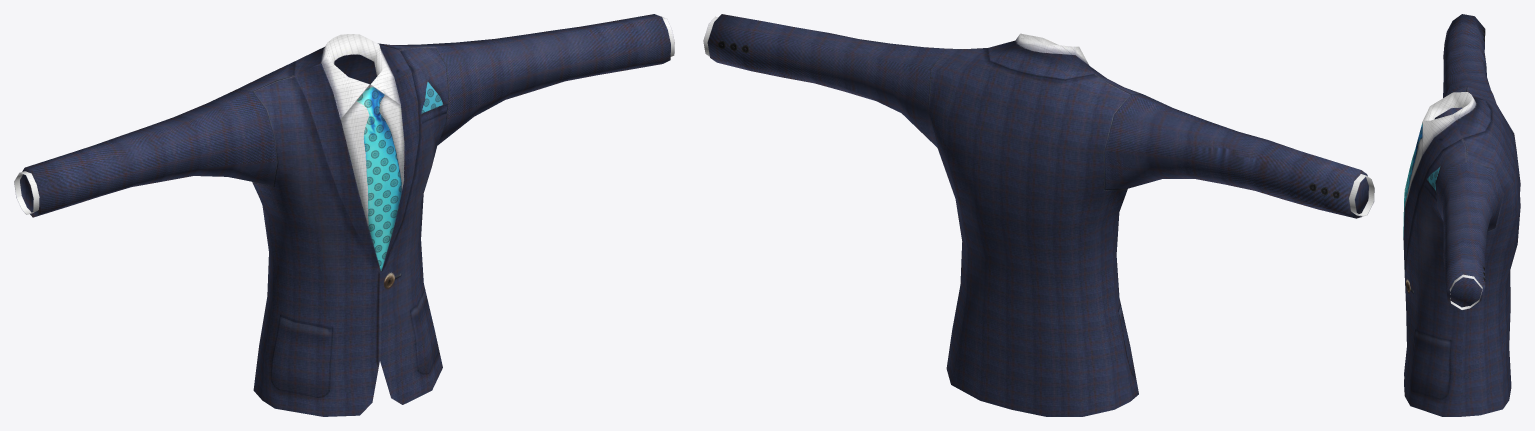
Rendered from smoking.glb.
3 renders of one model, left to right at view 1: azimuth 30°, elevation 25°; view 2: azimuth 150°, elevation 25°; view 3: azimuth 270°, elevation 25°, orthographic. The views are drawn at different scales.
Parts seen in each view (by area): view 1: Suit_Mesh; view 2: Suit_Mesh; view 3: Suit_Mesh.
Part boxes in pixels (left/top/right/bottom): Suit_Mesh: left=14, top=14, right=674, bottom=416; Suit_Mesh: left=703, top=14, right=1374, bottom=416; Suit_Mesh: left=1403, top=14, right=1520, bottom=416.
Bounding box in the file's own units: 0.4173 × 0.215 × 0.0788.
1 material, 1 textured.
